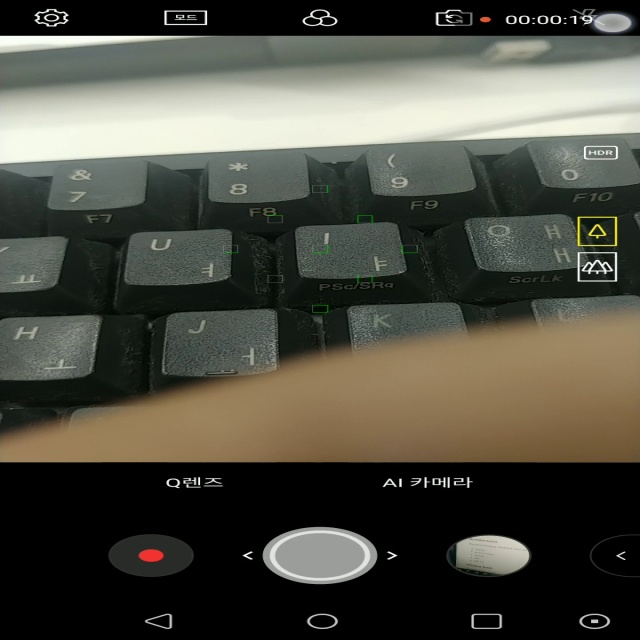Cursor: (591, 12, 635, 35)
